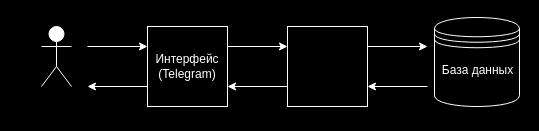
Some shapes in this 539 by 131 pixel diagram are drawn without their labels. The shapes that lost their labels are listed below. From the top down, each one's centre as x and y in pixels, then its label:
At pixel 57 58: "Пользователь".
At pixel 328 68: "Сервер".
